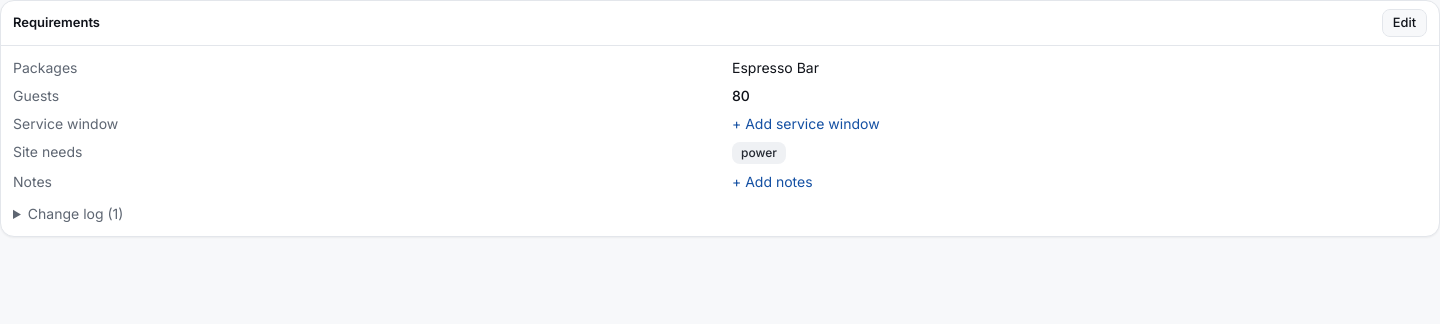
Test: RequirementsCard › disables Save when guests is not positive, re-enables once fixed
Click the button "Edit": (1404, 23) x1=1382 y1=9 x2=1427 y2=37
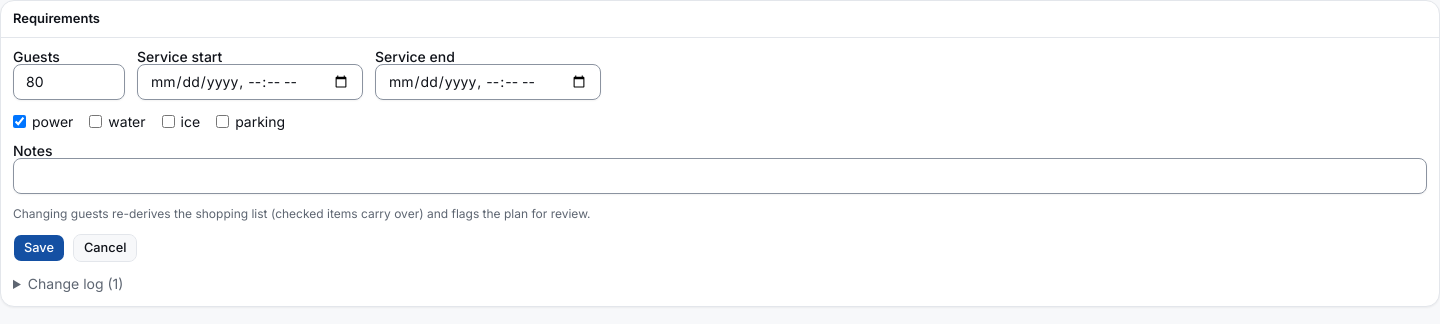
Replace the text in the number field labelled "Guests" with "0": (69, 82) x1=13 y1=64 x2=125 y2=100
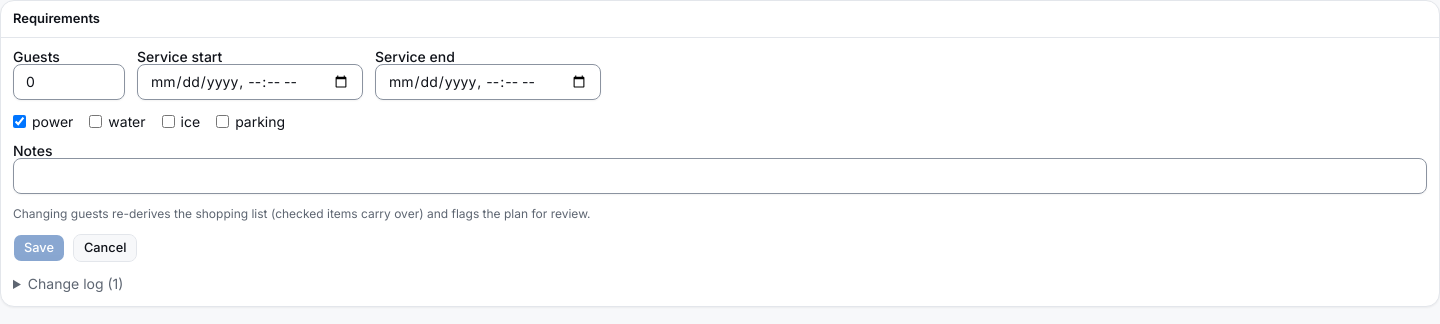
Expected: the button "Save" is disabled, x1=13 y1=234 x2=65 y2=262
Clear the number field labelled "Guests": (69, 82) x1=13 y1=64 x2=125 y2=100
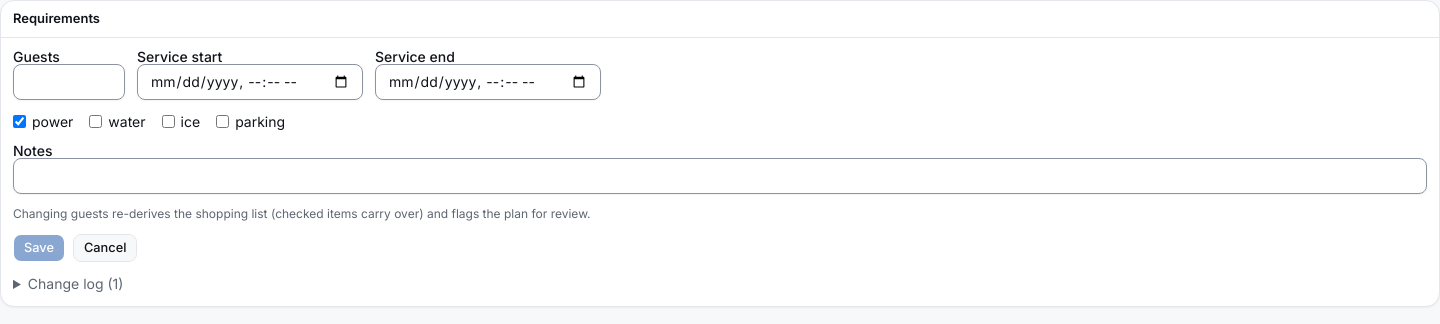
Expected: the button "Save" is disabled, x1=13 y1=234 x2=65 y2=262
In the number field labelled "Guests": (69, 82) x1=13 y1=64 x2=125 y2=100, type "100"
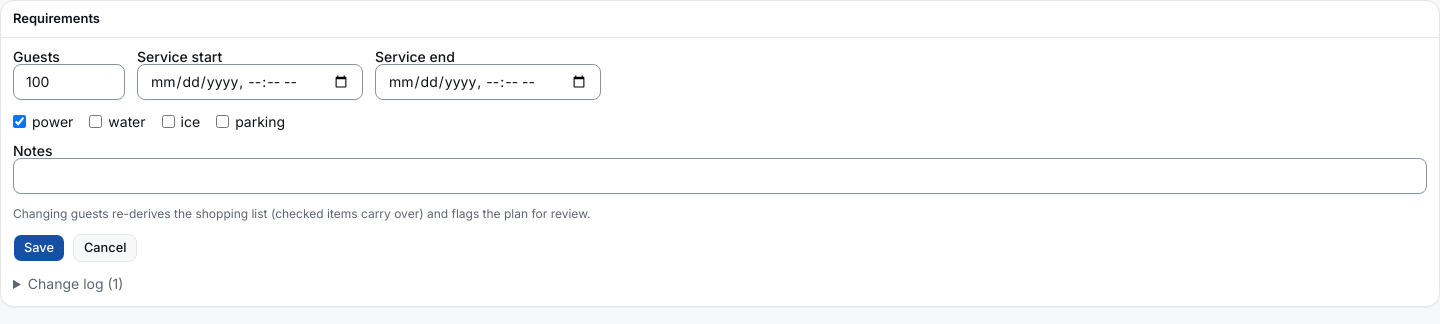
Expected: the button "Save" is enabled, x1=13 y1=234 x2=65 y2=262
